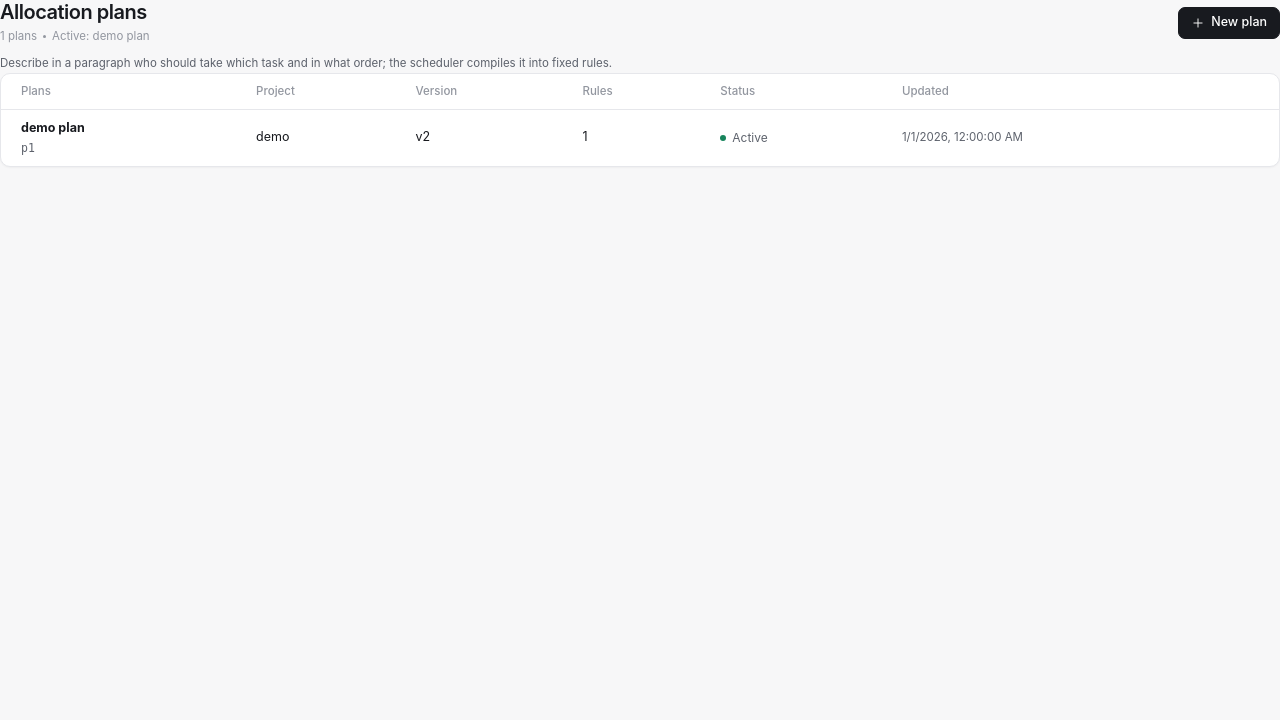
Scenario: PlansPage › opens a plan and shows the rules it compiled into
Click the text "demo plan". click: (53, 127)
box: [21, 120, 85, 135]
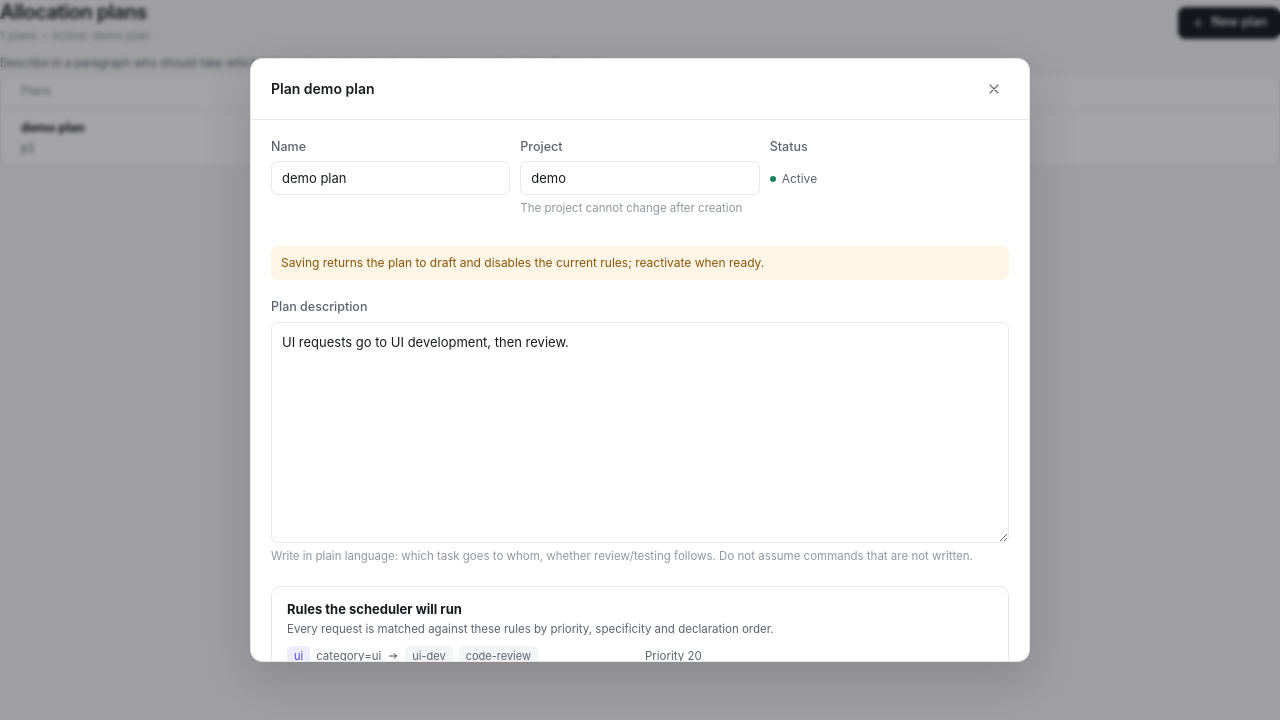
Check: the text "Plan description" is shown, box [271, 299, 367, 314]
Check: the text box showing "UI requests go to UI development, then review." is shown, box [271, 322, 1009, 543]
Check: the text "Rules the scheduler will run" is shown, box [287, 601, 462, 617]
